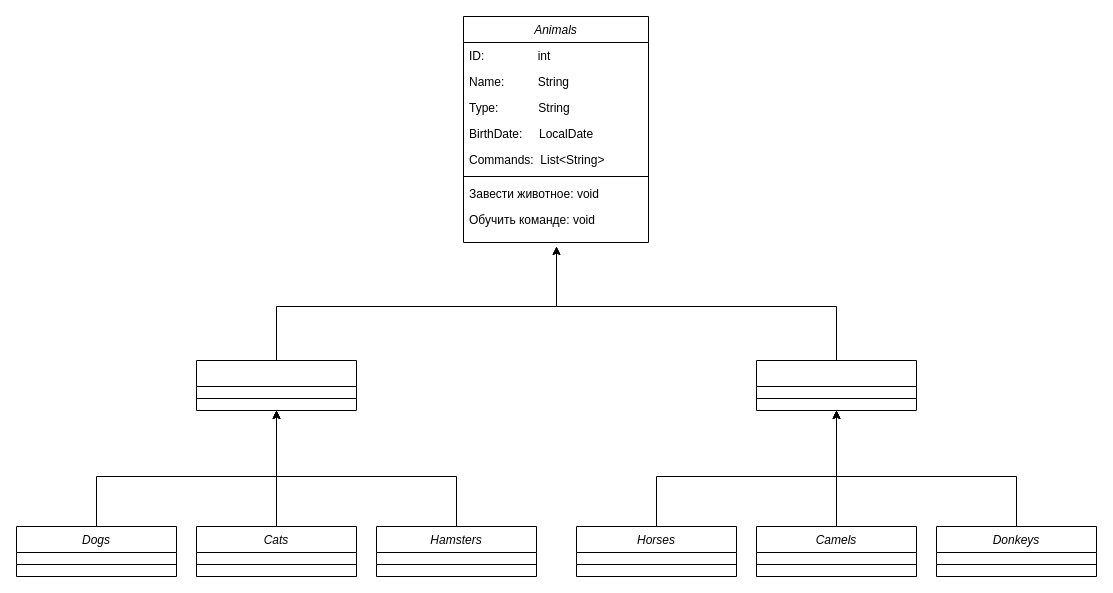
Some shapes in this 1113 by 593 pixel diagram are drawn without their labels. Each missing label, with the centre of its shape:
Pack animals: pixel 836 385
Pets: pixel 276 385
